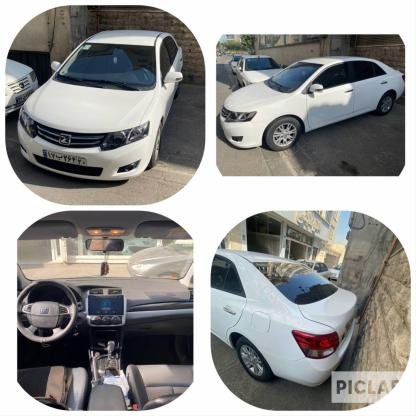Car: (21, 34, 186, 176), (198, 248, 350, 382), (218, 61, 416, 147), (0, 58, 43, 119), (238, 58, 292, 89), (228, 55, 255, 72)
